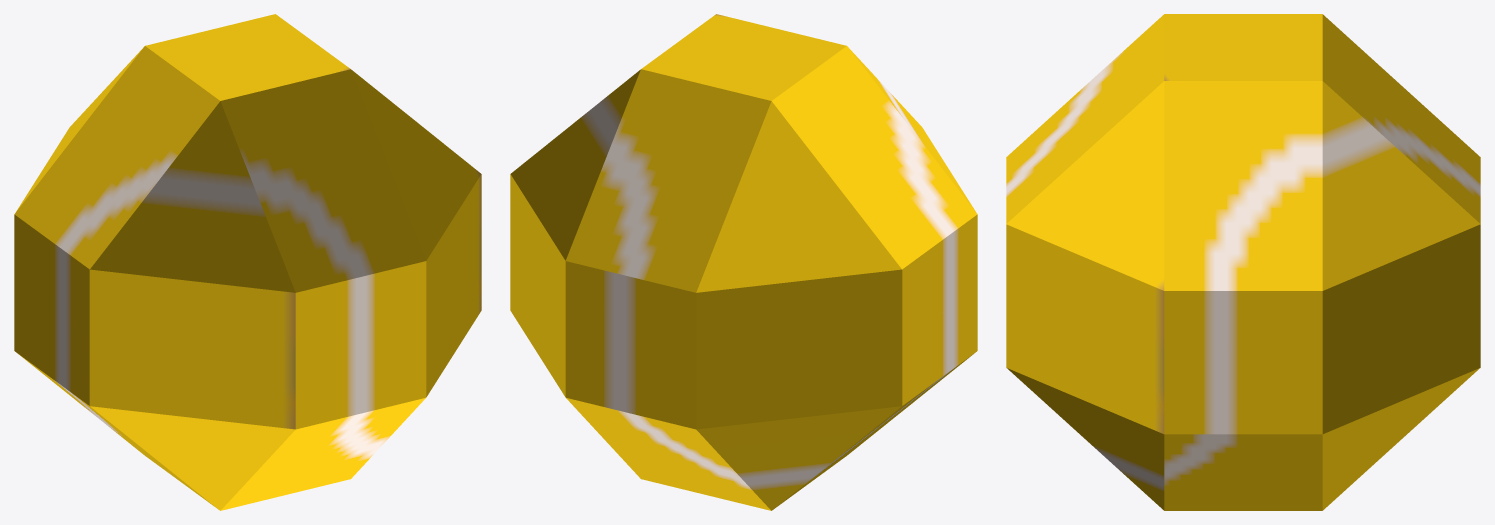
File: tennisYellow.glb
3 views of the same model, side by side, from view 1: azimuth 30°, elevation 25°; view 2: azimuth 150°, elevation 25°; view 3: azimuth 270°, elevation 25° (orthographic). The views are drawn at different scales.
Parts seen in each view (by area): view 1: tennisball.001; view 2: tennisball.001; view 3: tennisball.001.
Part boxes in pixels (x1,y1,x2,y2): tennisball.001: [14, 14, 481, 510]; tennisball.001: [510, 14, 977, 510]; tennisball.001: [1006, 14, 1480, 510].
Size of the model in its own units: 3.53 by 3.53 by 3.53.
1 material, 1 textured.
